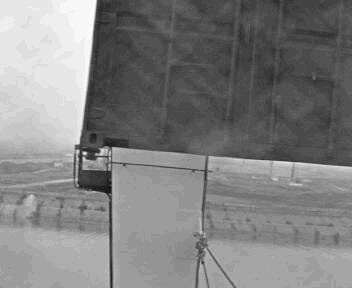twist_lock_1: (79, 144, 103, 165)
